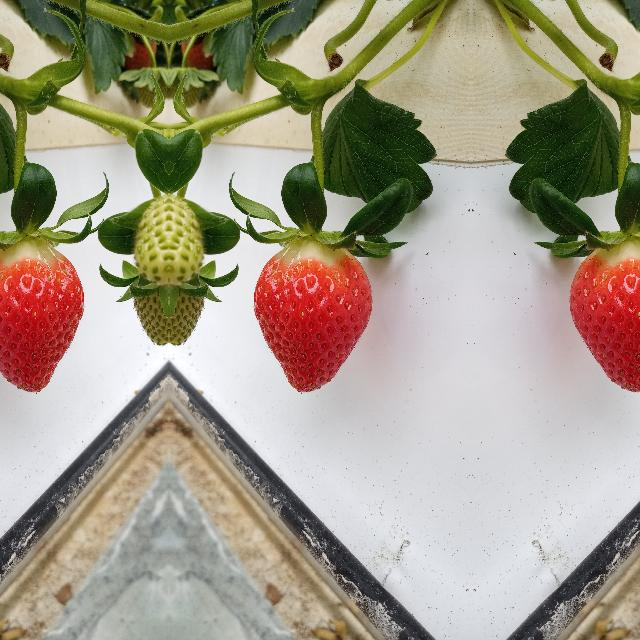Health_100: (252, 236, 372, 394), (0, 236, 84, 393), (569, 236, 640, 393)
